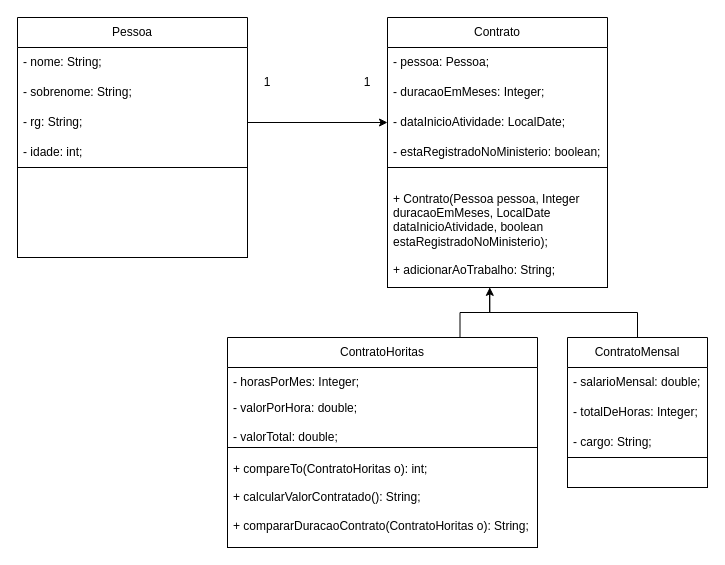
Image size: 725x565. Some labels were removed from this diagram. The centre of each missing label's shape, as x and y in pixels:
"+ isChefe(): boolean;" goes at (x=637, y=472).
"+ Pessoa(String nome, String sobrenome, String rg, Integer idade);" goes at (x=132, y=212).
